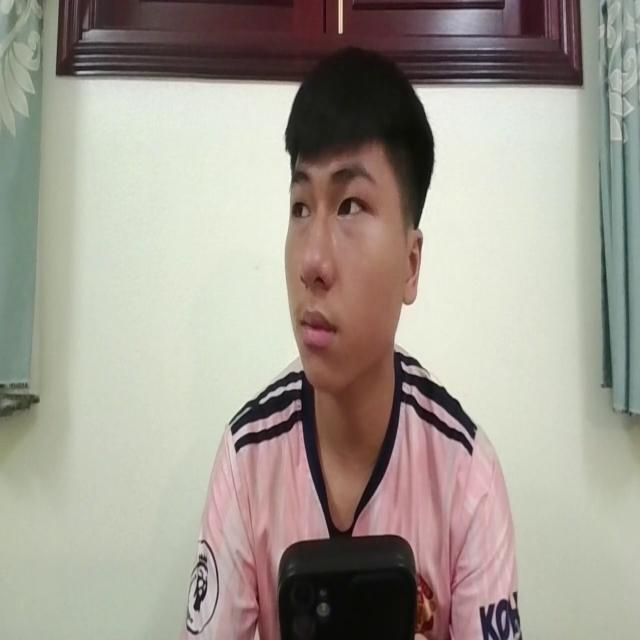phone: (276, 529, 416, 640)
student: (198, 50, 515, 640)
